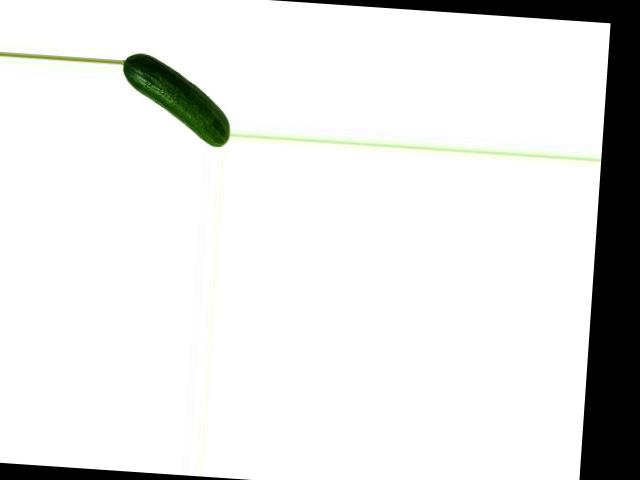cucumber: (117, 51, 235, 147)
